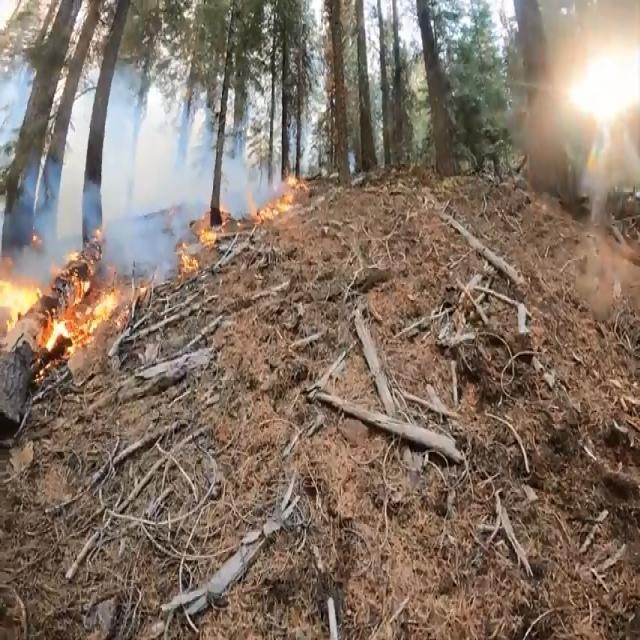Fire: (1, 168, 310, 352)
